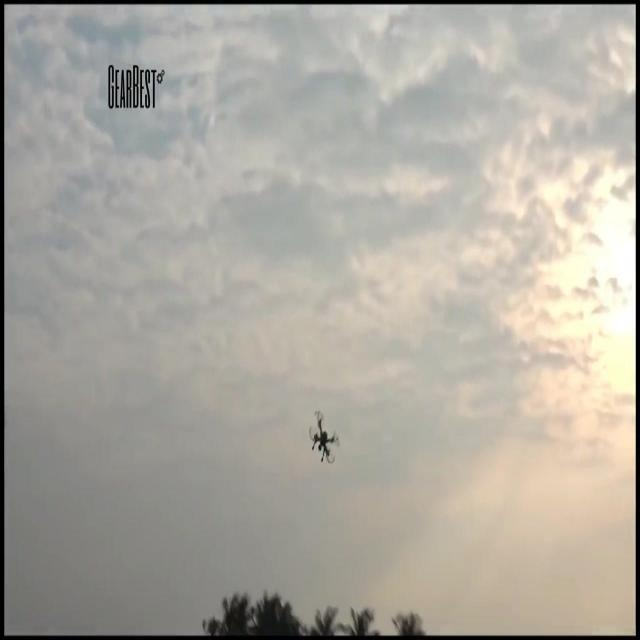UAV: (310, 412, 340, 463)
